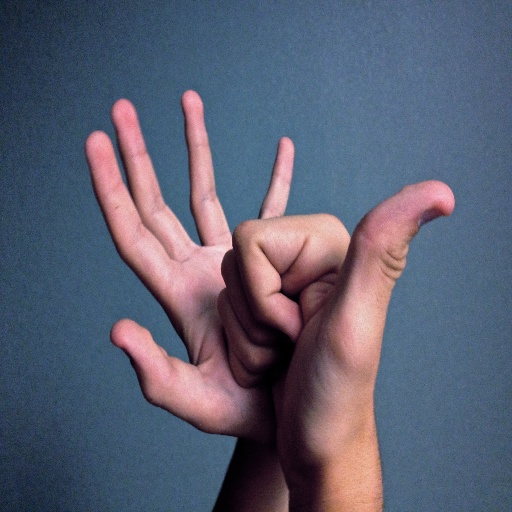hand: (215, 178, 457, 493), (110, 87, 295, 439)
